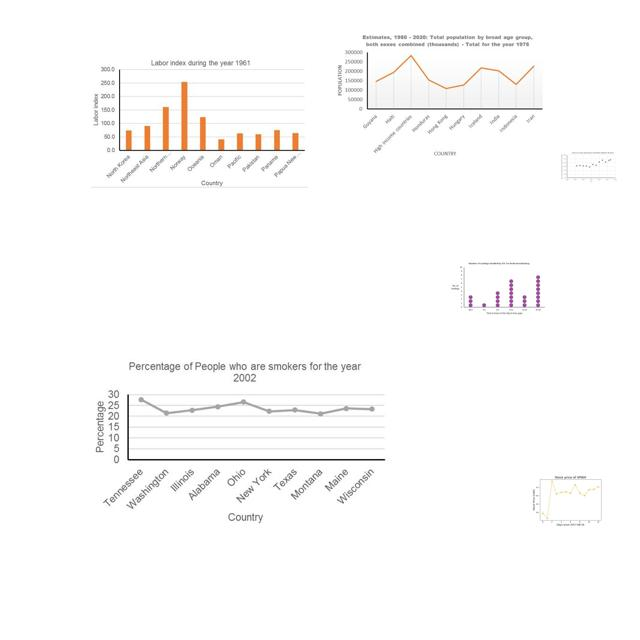Graph: (86, 354, 393, 526), (91, 58, 308, 188), (333, 31, 546, 160), (448, 260, 547, 317), (530, 470, 609, 529), (560, 150, 618, 184)
